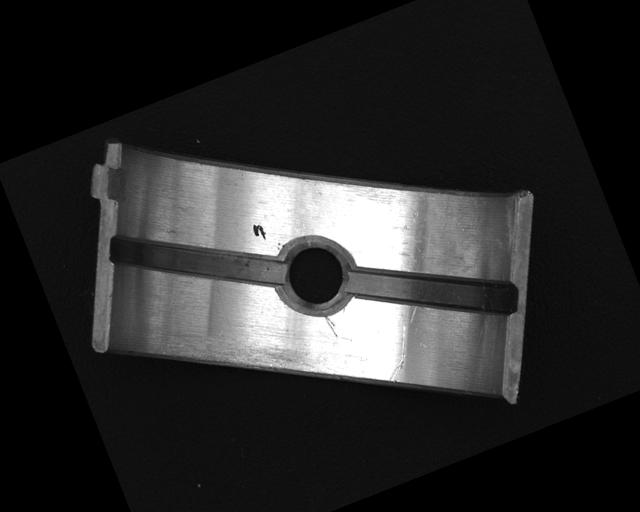blot: (250, 220, 268, 242)
gap: (103, 183, 287, 337), (344, 218, 523, 362)
hole: (263, 224, 367, 327)
nick: (371, 322, 424, 383), (324, 314, 340, 339)
scratch: (150, 294, 317, 424)
